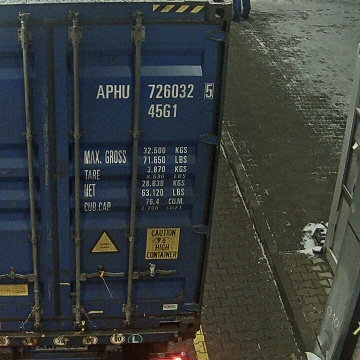serial_id: (96, 84, 212, 98)
